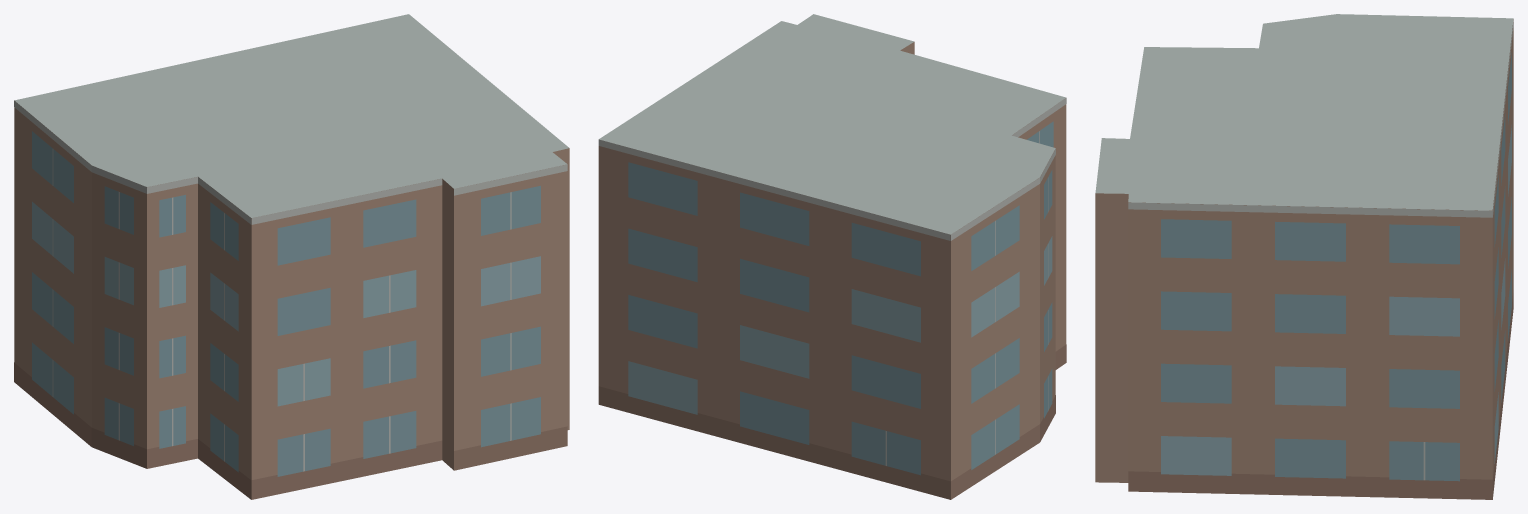
The model's file is survey-upis-32604801.glb.
3 renders of one model, left to right at view 1: azimuth 30°, elevation 25°; view 2: azimuth 150°, elevation 25°; view 3: azimuth 270°, elevation 25°, orthographic. The views are drawn at different scales.
Parts seen in each view (by area): view 1: survey-upis-32604801.tmp; view 2: survey-upis-32604801.tmp; view 3: survey-upis-32604801.tmp.
Boxes of the visible parts, bbox=[...] form: survey-upis-32604801.tmp: bbox=[14, 14, 569, 499]; survey-upis-32604801.tmp: bbox=[598, 14, 1066, 499]; survey-upis-32604801.tmp: bbox=[1095, 14, 1513, 499].
Size of the model in its own units: 14.75 by 10.1 by 13.25.
